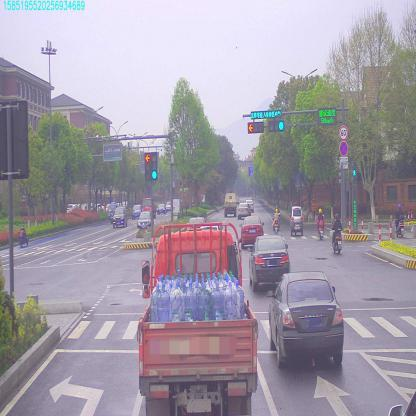traffic-light: (249, 108, 280, 119), (246, 122, 265, 135), (268, 122, 286, 133)
